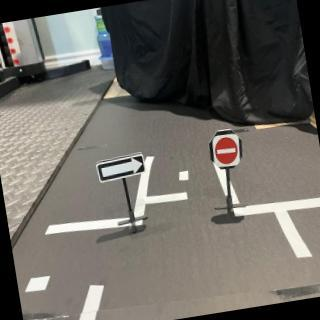sign_noentry: (211, 132, 244, 172)
sign_oneway_right: (96, 153, 149, 185)
